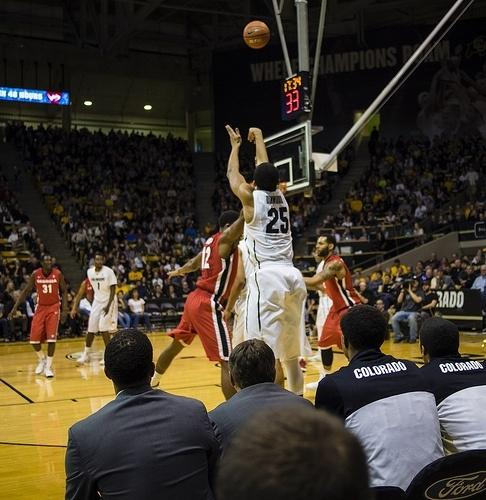basketball-player: (141, 206, 259, 406), (223, 123, 308, 397), (293, 222, 386, 369), (7, 245, 72, 390), (74, 247, 133, 373)
